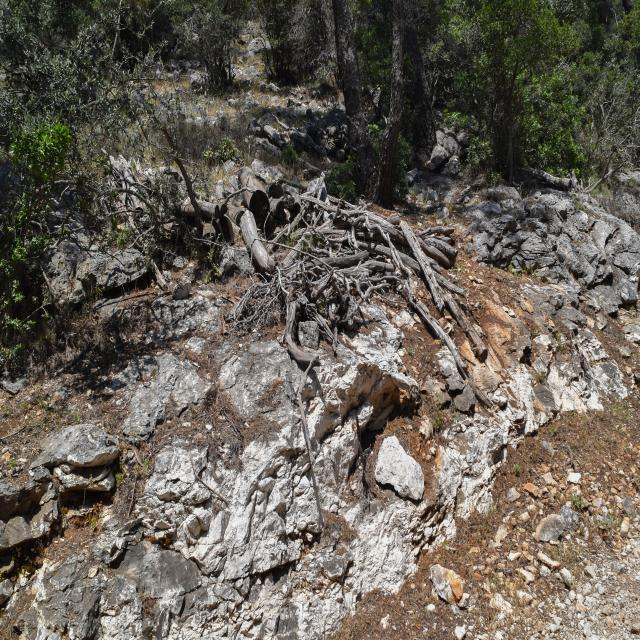restos de madeira: (231, 176, 436, 350), (426, 267, 492, 387), (230, 271, 288, 338), (294, 190, 370, 224), (348, 409, 372, 512), (192, 452, 227, 506), (42, 207, 84, 250), (99, 287, 168, 310), (109, 180, 159, 210), (525, 167, 574, 193), (270, 215, 308, 248), (0, 421, 38, 450), (40, 265, 63, 307), (271, 175, 316, 192), (588, 165, 615, 192), (128, 231, 157, 254), (220, 186, 250, 202), (128, 445, 147, 470), (416, 225, 449, 239), (271, 114, 292, 133)
